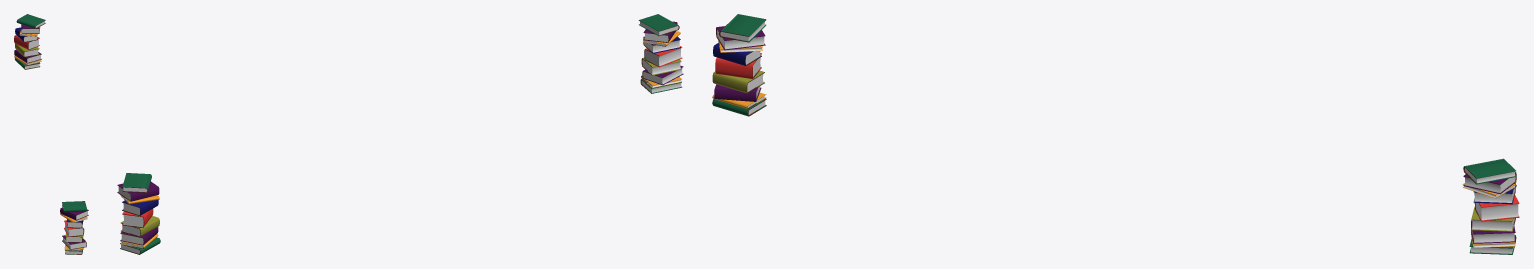
The model's file is books.glb.
The picture shows the model from 3 angles, left to right: view 1: azimuth 30°, elevation 25°; view 2: azimuth 150°, elevation 25°; view 3: azimuth 270°, elevation 25°; orthographic projection. The views are drawn at different scales.
Parts seen in each view (by area): view 1: Book - Hard Cover 06_Book - Hard Cover 06 - pages_0.004, Book - Hard Cover 06_Book - Hard Cover 06 - pages_0.006, Book - Hard Cover 02_Book - Hard Cover 02 - pages_0.001, Book - Hard Cover 04_Book - Hard Cover 04 - cover_0.006, Book - Hard Cover 02_Book - Hard Cover 02 - cover_0.003, Book - Hard Cover 04_Book - Hard Cover 04 - page_0.001, Book - Hard Cover 04_Book - Hard Cover 04 - cover_0.003, Book - Hard Cover 03_Book - Hard Cover 03 - cover_0.003, Book - Hard Cover 01_Book - Hard Cover 01 - pages_0.001, Book - Hard Cover 04_Book - Hard Cover 04 - page_0.004, Book - Hard Cover 03_Book - Hard Cover 03 - pages_0.003, Book - Hard Cover 03_Book - Hard Cover 03 - pages_0.001 (+11 smaller); view 2: Book - Hard Cover 06_Book - Hard Cover 06 - pages_0.006, Book - Hard Cover 06_Book - Hard Cover 06 - pages_0.004, Book - Hard Cover 02_Book - Hard Cover 02 - pages_0.001; view 3: Book - Hard Cover 06_Book - Hard Cover 06 - pages_0.004, Book - Hard Cover 06_Book - Hard Cover 06 - pages_0.006, Book - Hard Cover 02_Book - Hard Cover 02 - cover_0.001, Book - Hard Cover 02_Book - Hard Cover 02 - pages_0.003, Book - Hard Cover 03_Book - Hard Cover 03 - cover_0.001, Book - Hard Cover 04_Book - Hard Cover 04 - cover_0.001.
Part boxes in pixels (bbox=[...]): Book - Hard Cover 06_Book - Hard Cover 06 - pages_0.004: bbox=[16, 14, 45, 28]; Book - Hard Cover 06_Book - Hard Cover 06 - pages_0.006: bbox=[62, 201, 86, 212]; Book - Hard Cover 02_Book - Hard Cover 02 - pages_0.001: bbox=[64, 223, 83, 236]; Book - Hard Cover 04_Book - Hard Cover 04 - cover_0.006: bbox=[60, 207, 88, 220]; Book - Hard Cover 02_Book - Hard Cover 02 - cover_0.003: bbox=[14, 35, 39, 49]; Book - Hard Cover 04_Book - Hard Cover 04 - page_0.001: bbox=[62, 237, 86, 249]; Book - Hard Cover 04_Book - Hard Cover 04 - cover_0.003: bbox=[14, 49, 41, 62]; Book - Hard Cover 03_Book - Hard Cover 03 - cover_0.003: bbox=[15, 43, 39, 56]; Book - Hard Cover 01_Book - Hard Cover 01 - pages_0.001: bbox=[67, 222, 81, 227]; Book - Hard Cover 04_Book - Hard Cover 04 - page_0.004: bbox=[22, 29, 39, 33]; Book - Hard Cover 03_Book - Hard Cover 03 - pages_0.003: bbox=[24, 49, 38, 56]; Book - Hard Cover 03_Book - Hard Cover 03 - pages_0.001: bbox=[66, 236, 81, 242]; Book - Hard Cover 06_Book - Hard Cover 06 - pages_0.006: bbox=[638, 14, 679, 35]; Book - Hard Cover 06_Book - Hard Cover 06 - pages_0.004: bbox=[122, 173, 151, 192]; Book - Hard Cover 02_Book - Hard Cover 02 - pages_0.001: bbox=[645, 48, 681, 65]; Book - Hard Cover 06_Book - Hard Cover 06 - pages_0.004: bbox=[1463, 158, 1516, 184]; Book - Hard Cover 06_Book - Hard Cover 06 - pages_0.006: bbox=[719, 14, 766, 42]; Book - Hard Cover 02_Book - Hard Cover 02 - cover_0.001: bbox=[715, 53, 761, 78]; Book - Hard Cover 02_Book - Hard Cover 02 - pages_0.003: bbox=[1475, 203, 1518, 220]; Book - Hard Cover 03_Book - Hard Cover 03 - cover_0.001: bbox=[712, 70, 764, 93]; Book - Hard Cover 04_Book - Hard Cover 04 - cover_0.001: bbox=[714, 84, 760, 101].
Size of the model in its own units: 2.5 by 0.5808 by 5.17.
